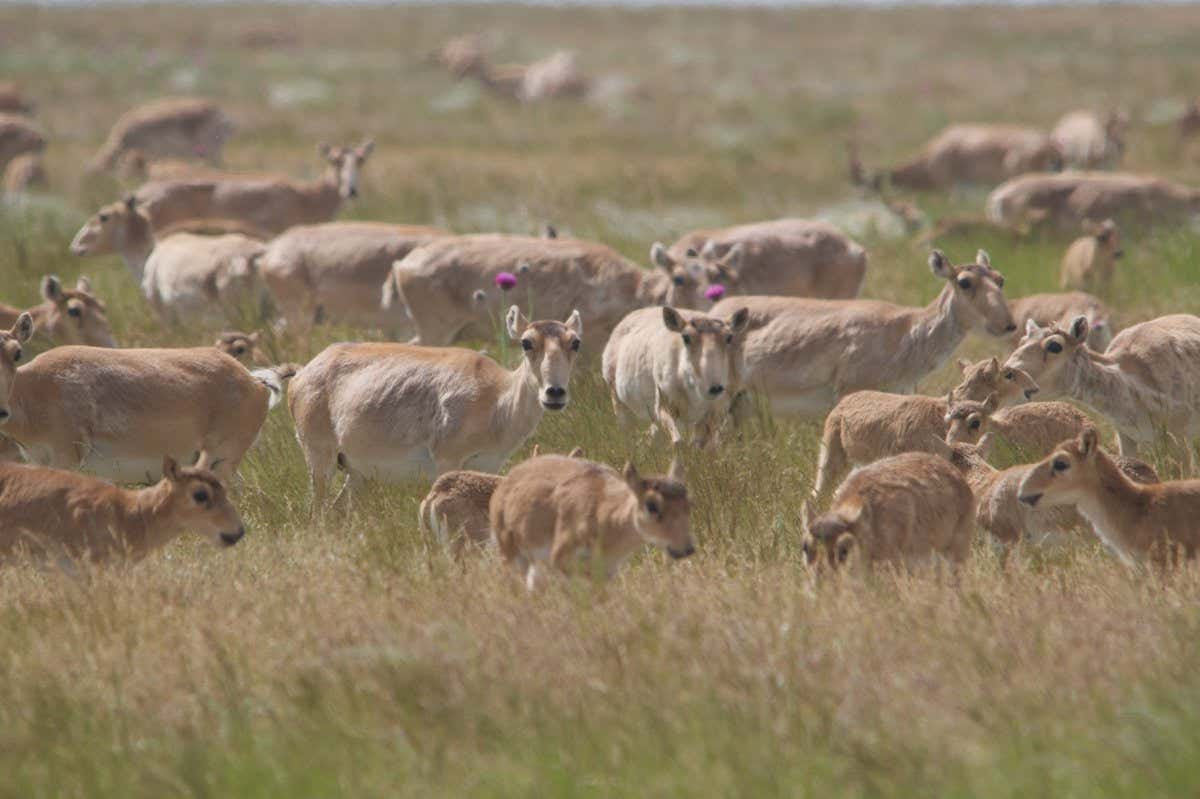saiga: (282, 312, 594, 508)
